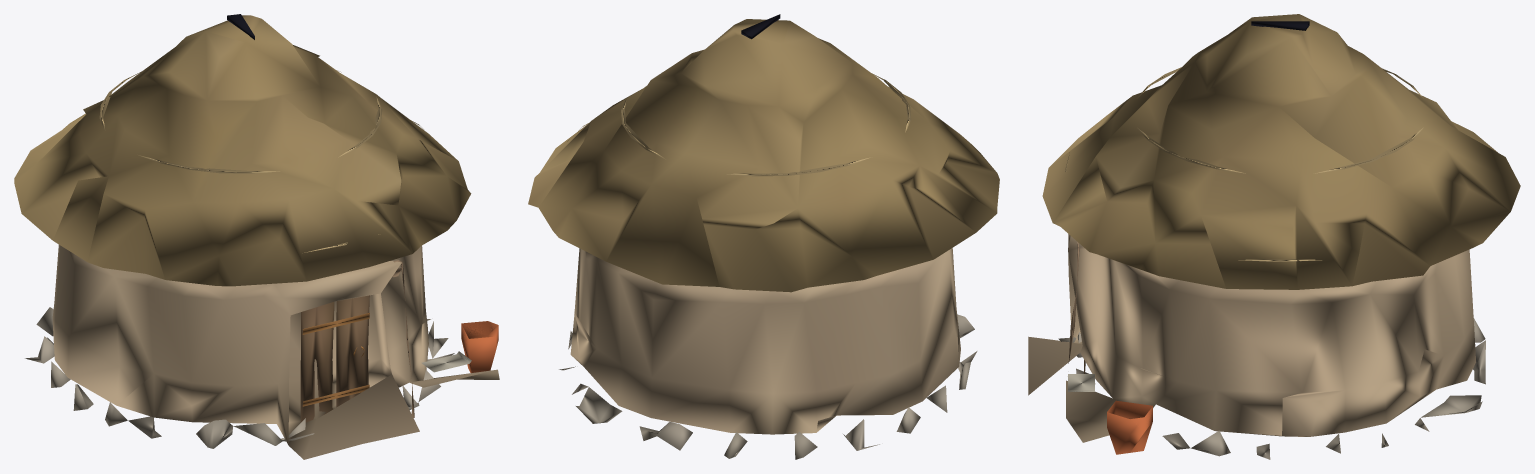
File: country_hut_shepherd.glb
3 views of the same model, side by side, from view 1: azimuth 30°, elevation 25°; view 2: azimuth 150°, elevation 25°; view 3: azimuth 270°, elevation 25° (orthographic). The views are drawn at different scales.
Parts seen in each view (by area): view 1: thatch.004, drystone, plank, rock.050, terracotta, rope, bronze, cloth_cream; view 2: thatch.004, drystone, rock.050, rope; view 3: thatch.004, drystone, rock.050, terracotta, rope.
Boxes of the visible parts, <box> form: thatch.004: <box>14,15,471,286</box>; drystone: <box>52,244,499,459</box>; plank: <box>300,295,369,422</box>; rock.050: <box>25,307,454,448</box>; terracotta: <box>461,321,498,372</box>; rope: <box>99,70,434,252</box>; bronze: <box>302,313,369,406</box>; cloth_cream: <box>421,351,471,372</box>; thatch.004: <box>528,19,999,292</box>; drystone: <box>570,248,960,434</box>; rock.050: <box>559,314,977,459</box>; rope: <box>567,73,911,176</box>; thatch.004: <box>1042,14,1520,289</box>; drystone: <box>1028,234,1475,442</box>; rock.050: <box>1058,318,1485,459</box>; terracotta: <box>1107,400,1152,454</box>; rope: <box>1065,67,1423,261</box>.
Size of the model in its own units: 4.87 by 4.03 by 5.08.
